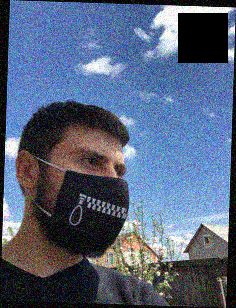with_mask: (47, 144, 130, 259)
